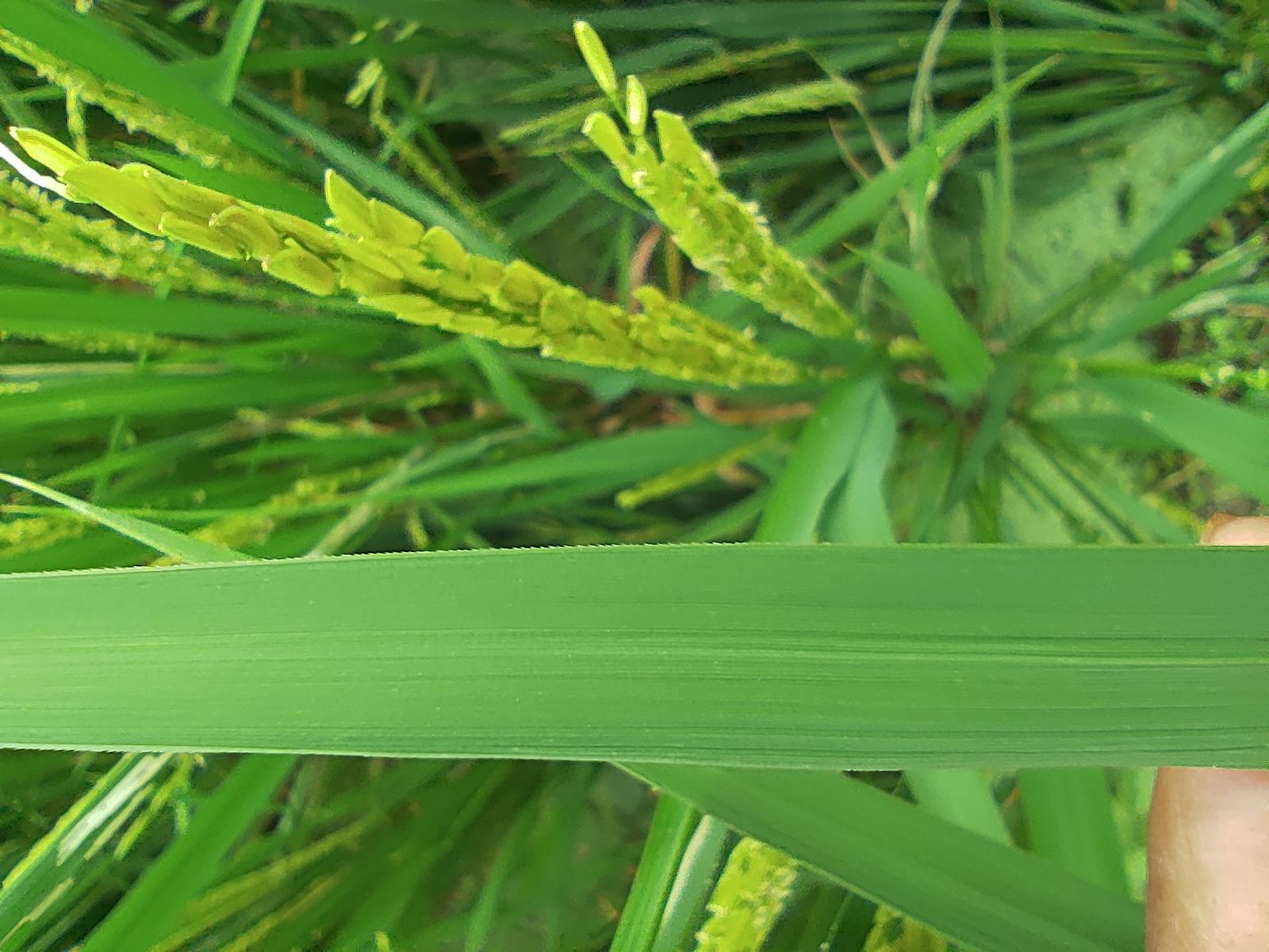Healthy: (243, 1, 544, 951)
